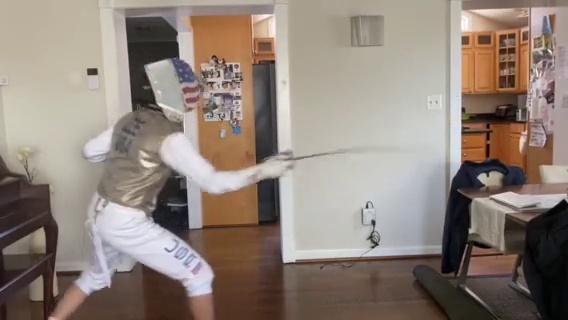blade-guard: (284, 146, 296, 170)
blade-tip: (419, 149, 459, 165)
fencing-blade: (270, 144, 461, 174)
